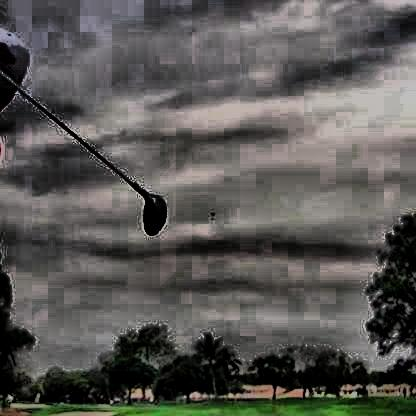golfball: (206, 207, 215, 215)
